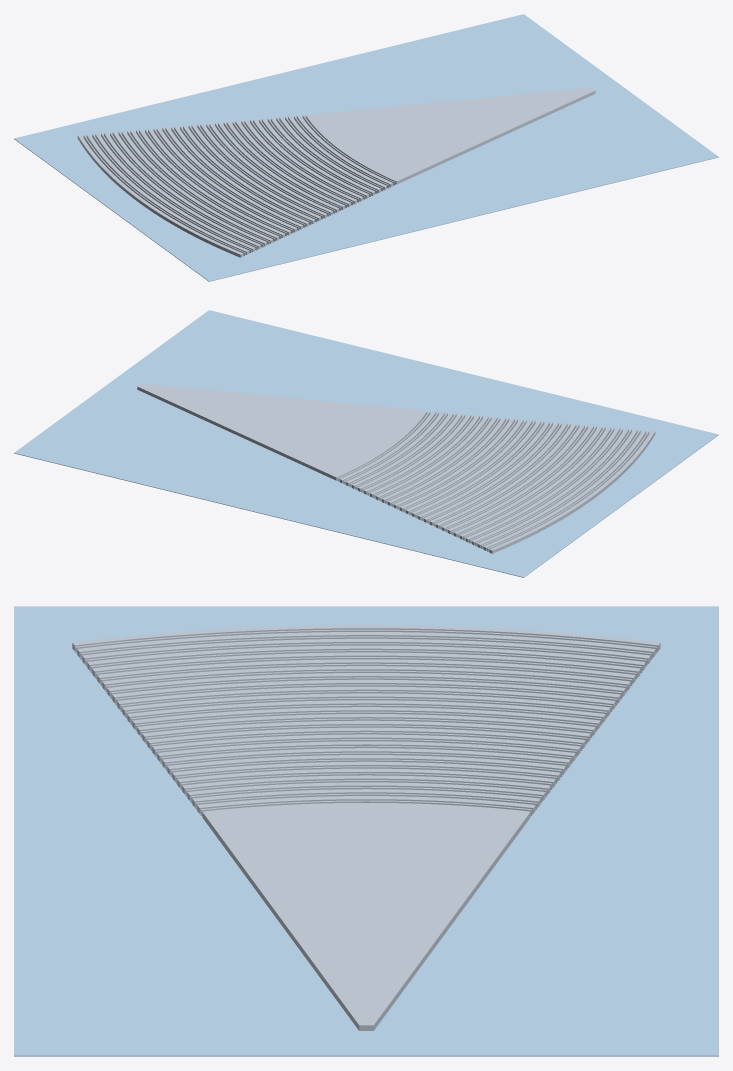
Rendered from siepic-gc-te1550.glb.
3 views of the same model, one above another, from view 1: azimuth 30°, elevation 25°; view 2: azimuth 150°, elevation 25°; view 3: azimuth 270°, elevation 25° (orthographic). The views are drawn at different scales.
Parts seen in each view (by area): view 1: box_top, core_0, core_52, core_50, core_48, core_46, core_44, core_42, core_40, core_38, core_36, core_34 (+28 smaller); view 2: box_top, core_0, core_52, core_50, core_48, core_46, core_44, core_42, core_40, core_38, core_36, core_34 (+28 smaller); view 3: box_top, core_0, core_52, core_50, core_48, core_46, core_44, core_42, core_40, core_38, core_36, core_34 (+42 smaller).
Part boxes in pixels (x1,y1,x2,y2): box_top: [14, 14, 718, 281]; core_0: [305, 87, 595, 184]; core_52: [77, 135, 243, 257]; core_50: [86, 134, 249, 254]; core_48: [95, 133, 255, 252]; core_46: [104, 132, 261, 249]; core_44: [112, 132, 267, 246]; core_42: [121, 131, 273, 243]; core_40: [130, 130, 279, 240]; core_38: [139, 129, 285, 237]; core_36: [148, 128, 291, 235]; core_34: [156, 128, 297, 232]; box_top: [14, 310, 718, 577]; core_0: [137, 383, 427, 480]; core_52: [489, 431, 655, 553]; core_50: [483, 430, 646, 550]; core_48: [477, 429, 637, 548]; core_46: [471, 428, 628, 545]; core_44: [465, 428, 620, 542]; core_42: [459, 427, 611, 539]; core_40: [453, 426, 602, 536]; core_38: [447, 425, 593, 533]; core_36: [441, 424, 584, 531]; core_34: [435, 424, 576, 528]; box_top: [14, 606, 718, 1056]; core_0: [202, 803, 530, 1030]; core_52: [72, 625, 660, 651]; core_50: [77, 632, 655, 657]; core_48: [82, 638, 650, 664]; core_46: [87, 645, 645, 670]; core_44: [92, 652, 640, 677]; core_42: [97, 659, 635, 683]; core_40: [102, 666, 630, 690]; core_38: [107, 673, 625, 696]; core_36: [112, 679, 620, 703]; core_34: [117, 686, 615, 709].
Size of the model in its own units: 36.54 by 0.26 by 24.23.
